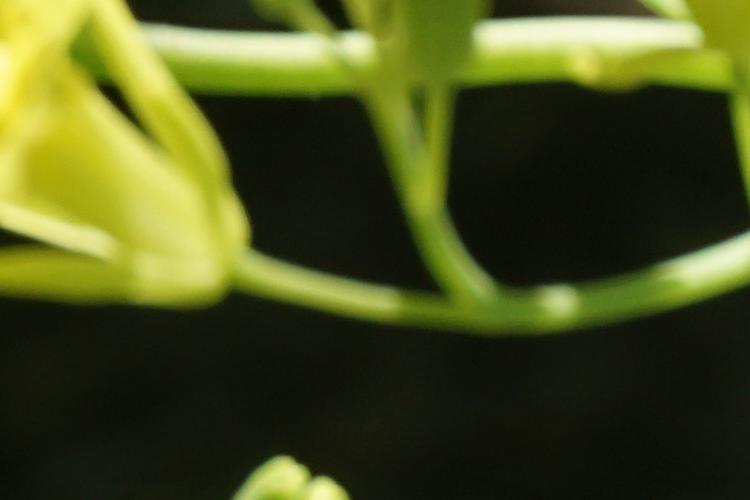yellow: (7, 6, 250, 321)
